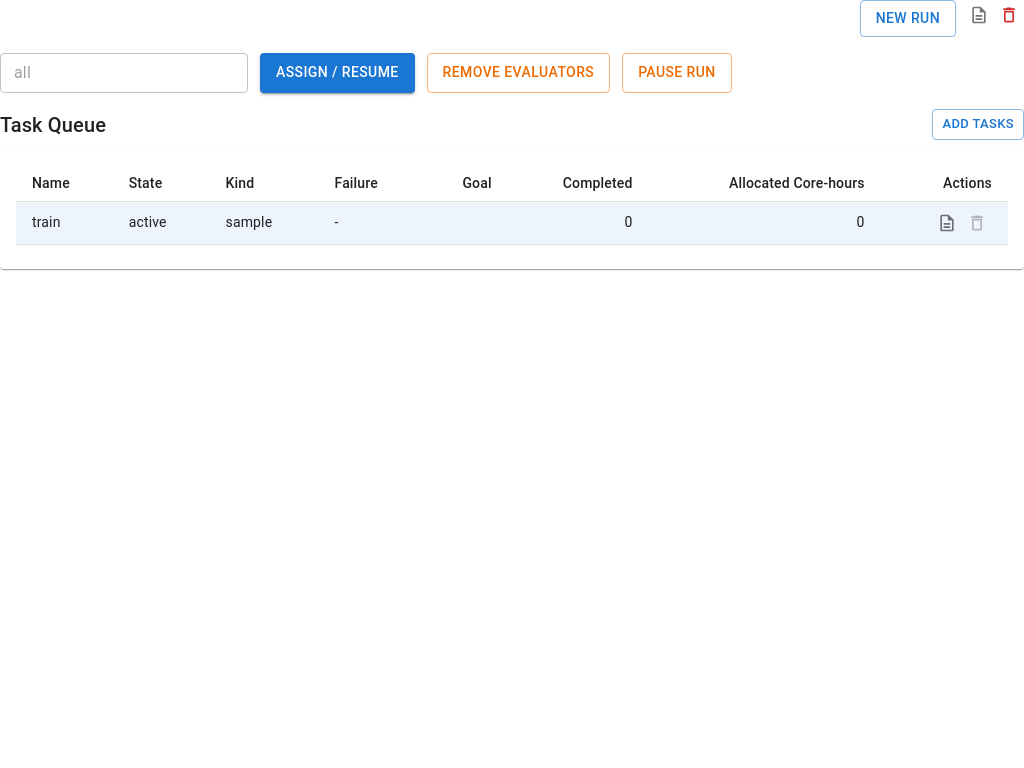
Test: definition editors › active tasks open editable drafts without allowing in-place saves or deletion
The image size is (1024, 768).
Expected: the button named "Delete task train" is disabled, 962,208 -> 992,238
Step 1. Click the button named "Open task train" → point(947, 222), box 932,208 -> 962,238
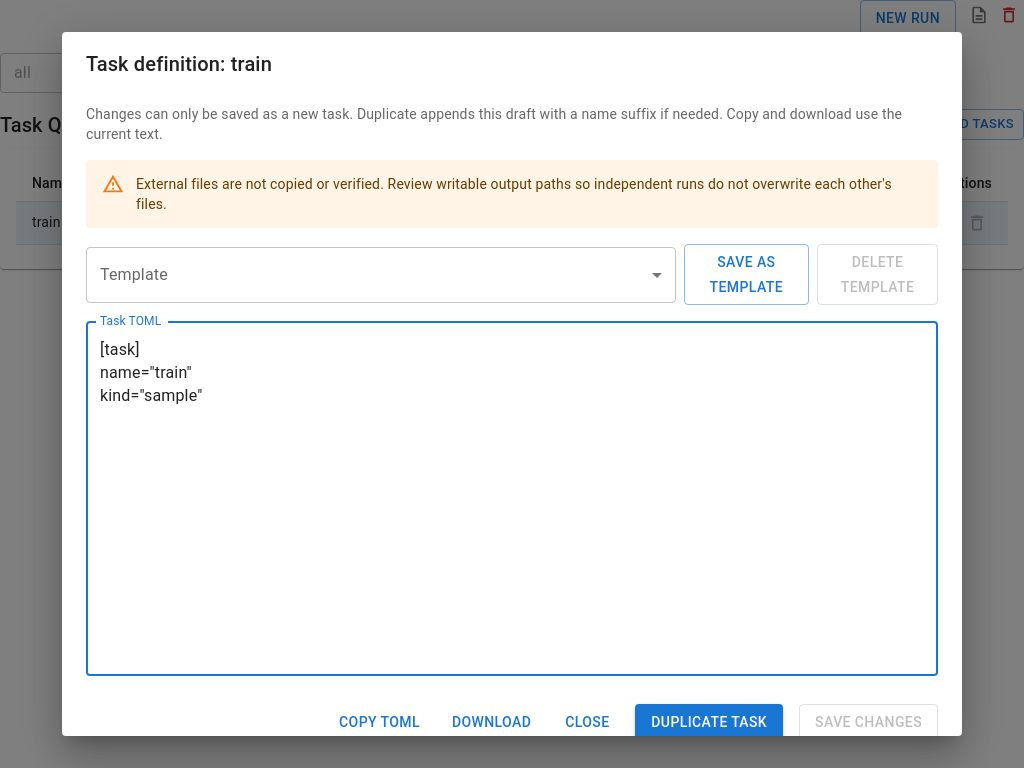
Result: the text box labelled "Task TOML" is enabled at 100,338 -> 924,660
Result: the button "Save changes" is disabled at 799,704 -> 938,736
Result: the button "Duplicate task" is enabled at 635,704 -> 783,736
